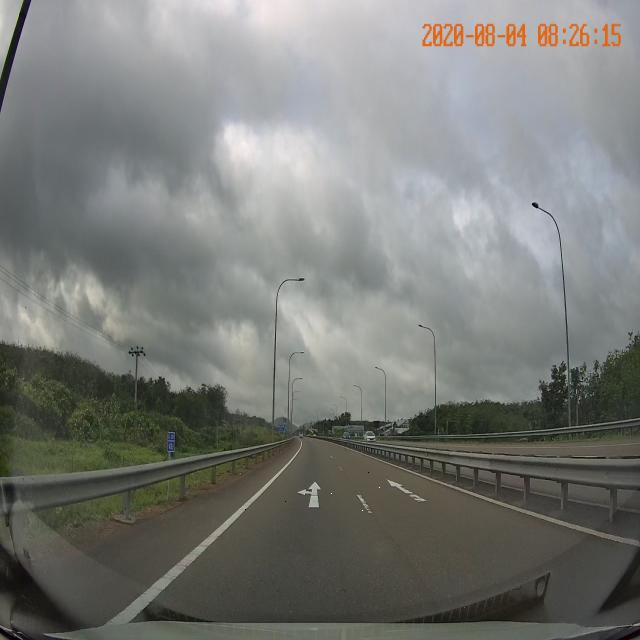forward_lft: (241, 469, 383, 519)
